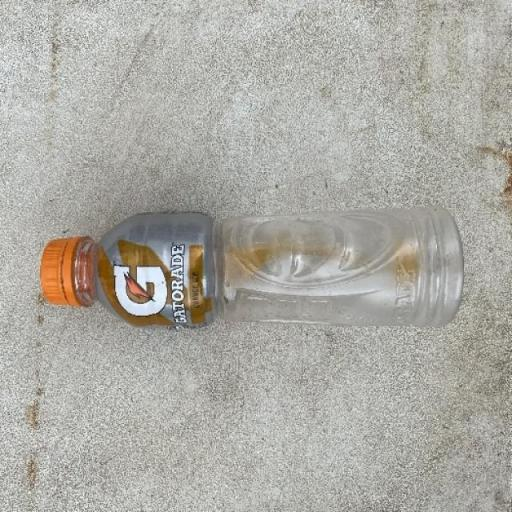plastic: (39, 203, 465, 330)
